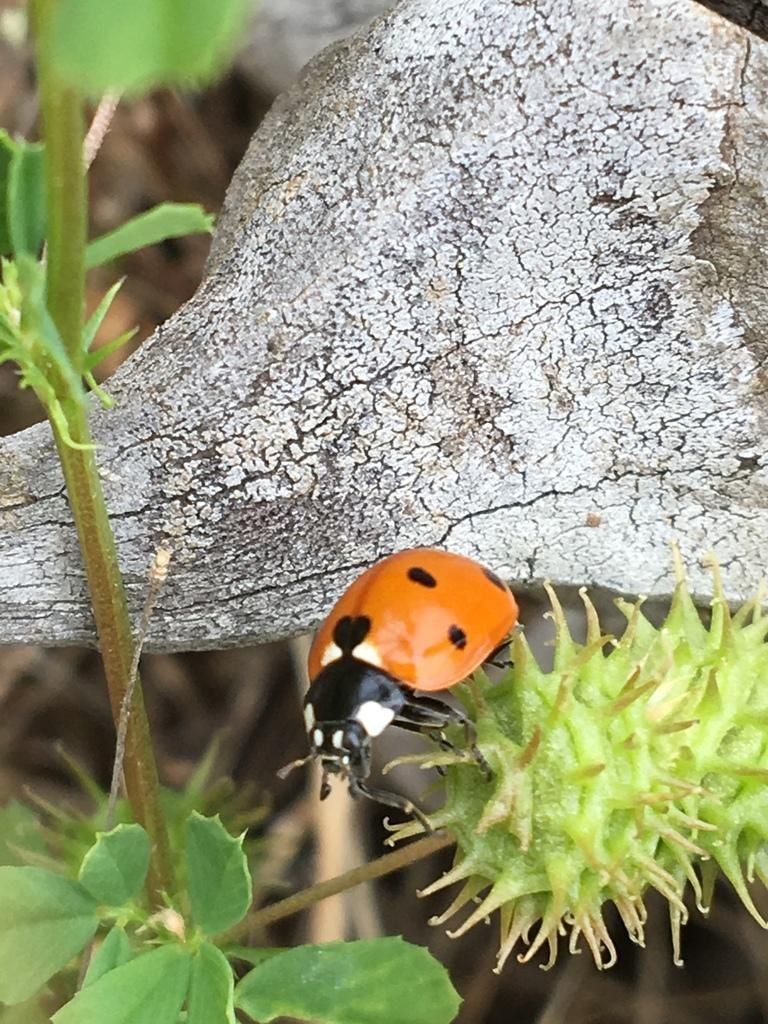ladybug: (276, 546, 526, 844)
